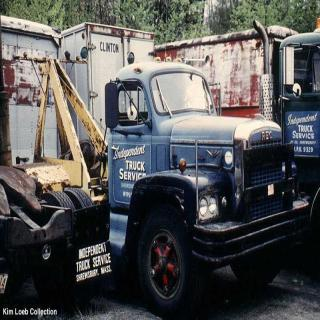Towing_truck: (1, 17, 313, 316)
